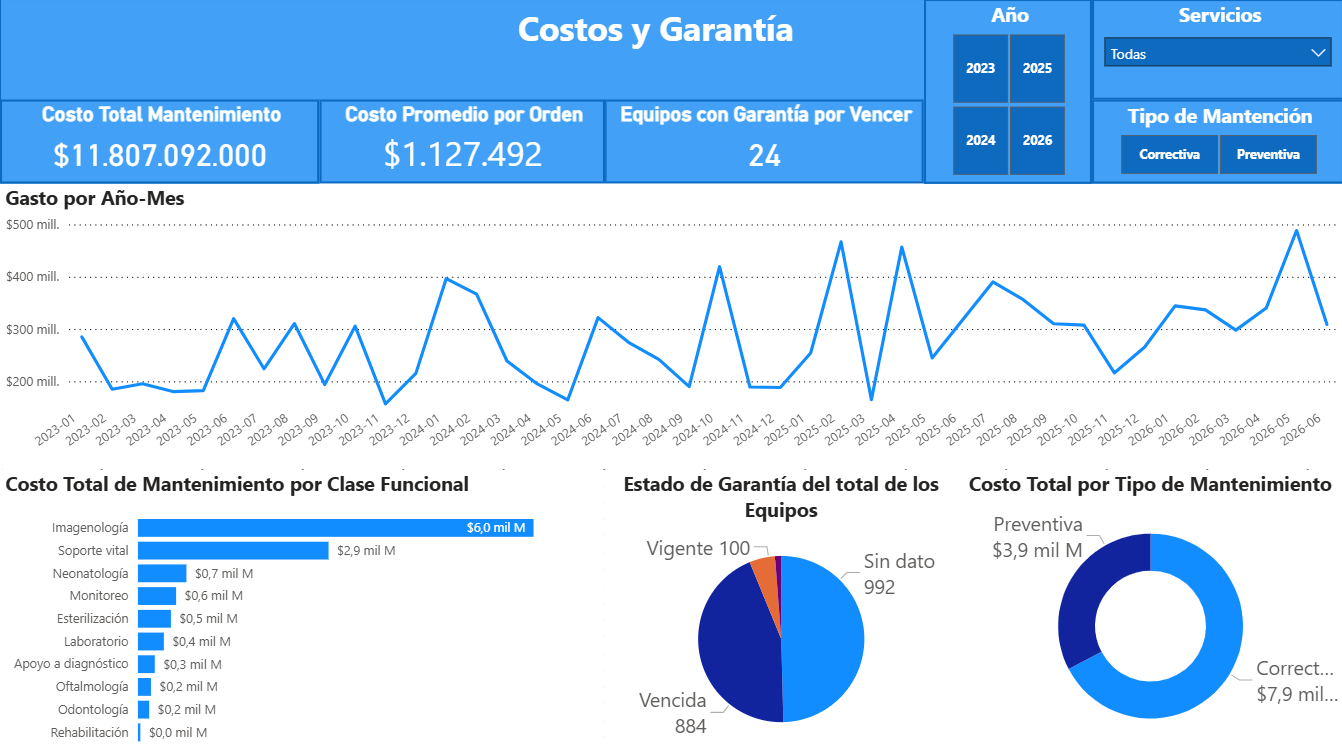

The dashboard page shown, as its layout file describes it:
{"tool":"powerbi","page":{"name":"Costos y Garantía","canvas":[1280,720],"ordinal":2},"visuals":[{"type":"card","title":"Equipos con Garantía por Vencer","fields":{"Values":["_Medidas.Equipos Garantía por Vencer"]},"box":[48,96,224,80],"z":0},{"type":"actionButton","title":"Open","box":[1072,16,160,40],"z":1000,"group":"g1"},{"type":"card","title":"Costo Promedio por Orden","fields":{"Values":["_Medidas.Costo Promedio por Orden"]},"box":[272,96,240,80],"z":1000},{"type":"lineChart","title":"Gasto de Mantenimiento por Año-Mes","fields":{"Category":["dim_fecha.anio_mes"],"Y":["_Medidas.Costo Total Mantenimiento"]},"box":[464,208,768,224],"z":2000},{"type":"barChart","title":"Costo Total por Clase Funcional","fields":{"Category":["dim_equipo.clase_funcional"],"Y":["_Medidas.Costo Total Mantenimiento","_Medidas.Costo Total Adquisición"]},"box":[48,208,384,480],"z":3000},{"type":"pieChart","title":"Estado de Garantía del total de los Equipos ","fields":{"Category":["dim_equipo.estado_garantia"],"Y":["CountNonNull(dim_equipo.equipo_id)"]},"box":[880,448,352,240],"z":4000},{"type":"card","title":"Costo Total","fields":{"Values":["_Medidas.Costo Total"]},"box":[992,96,240,80],"z":5000},{"type":"donutChart","title":"Costo Total por Tipo de Mantenimiento","fields":{"Category":["dim_tipo_mantenimiento.nombre_tipo"],"Y":["_Medidas.Costo Total Mantenimiento"]},"box":[448,448,416,240],"z":6000},{"type":"group","id":"g1","title":"Buttons","box":[1072,16,160,40],"z":8000},{"type":"textbox","box":[48,0,448,48],"z":9000},{"type":"textbox","box":[48,32,304,32],"z":10000},{"type":"card","title":"Costo Total de Adquisición","fields":{"Values":["_Medidas.Costo Total Adquisición"]},"box":[752,96,240,80],"z":11000},{"type":"card","title":"Costo Total de Mantenimiento","fields":{"Values":["_Medidas.Costo Total Mantenimiento"]},"box":[512,96,240,80],"z":12000}]}

Visuals, with their boxes in screenshot pixels (x1, y1, x2, y2), scaled from the page's 1280x720 canvas onto the 1342x751 screenshot:
"Equipos con Garantía por Vencer" card: <region>50, 100, 285, 184</region>
"Open" actionButton: <region>1124, 17, 1292, 58</region>
"Costo Promedio por Orden" card: <region>285, 100, 537, 184</region>
"Gasto de Mantenimiento por Año-Mes" lineChart: <region>486, 217, 1292, 451</region>
"Costo Total por Clase Funcional" barChart: <region>50, 217, 453, 718</region>
"Estado de Garantía del total de los Equipos " pieChart: <region>923, 467, 1292, 718</region>
"Costo Total" card: <region>1040, 100, 1292, 184</region>
"Costo Total por Tipo de Mantenimiento" donutChart: <region>470, 467, 906, 718</region>
"Buttons" group: <region>1124, 17, 1292, 58</region>
textbox: <region>50, 0, 520, 50</region>
textbox: <region>50, 33, 369, 67</region>
"Costo Total de Adquisición" card: <region>788, 100, 1040, 184</region>
"Costo Total de Mantenimiento" card: <region>537, 100, 788, 184</region>
